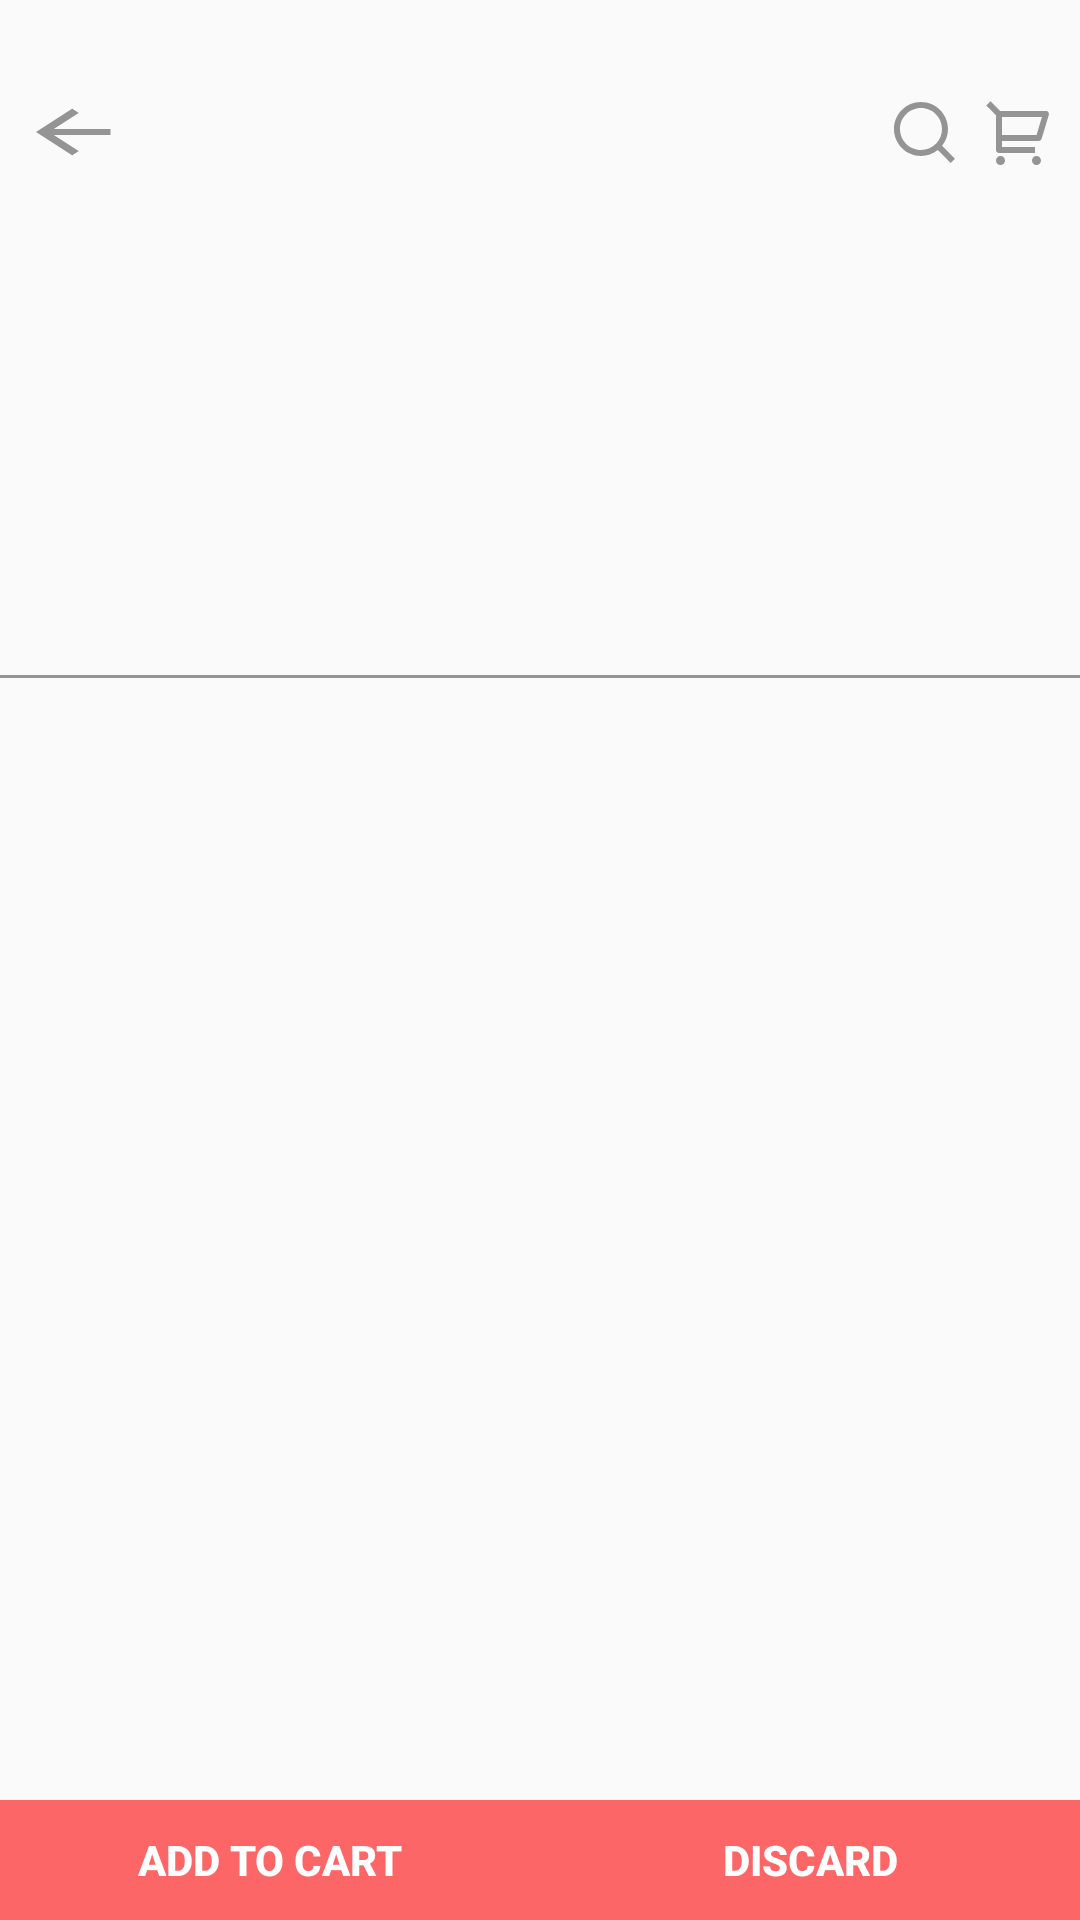

Icons on this 1080px x 1920px Android screen, each with its box as {"left": x1, "top": y1, "right": x2, "bottom": y2}:
arrow: {"left": 36, "top": 109, "right": 111, "bottom": 155}
cart: {"left": 986, "top": 101, "right": 1049, "bottom": 165}
search: {"left": 894, "top": 102, "right": 955, "bottom": 163}
